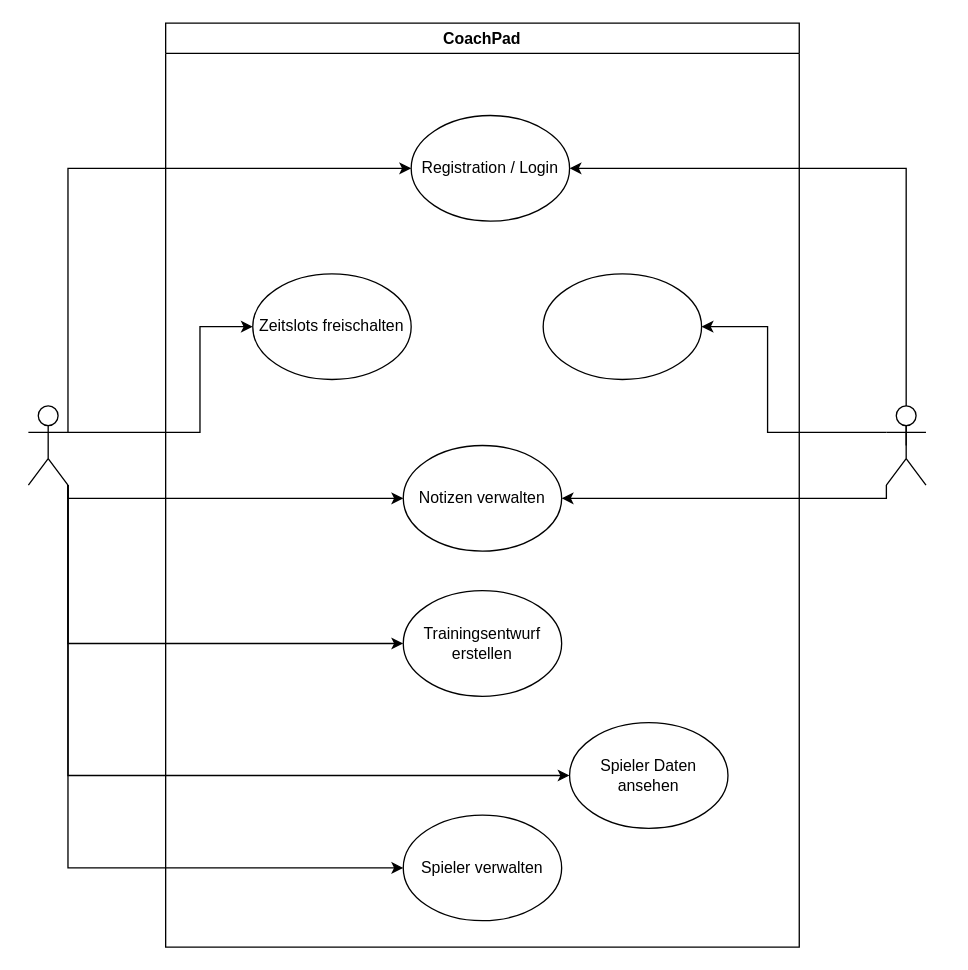
The diagram is 968 pixels wide and 970 high, and some of its shapes have lost their labels. Each missing label, with the centre of its shape:
Schueler/in: (x=905, y=445)
Trainer: (x=47, y=445)
Zeitslots auswählen: (x=622, y=326)
